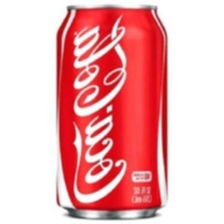can: (53, 0, 171, 220)
